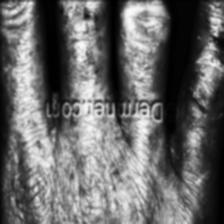Non-Cancerous Skin Condition: (90, 143, 173, 218), (7, 115, 70, 207), (58, 0, 109, 86), (122, 0, 162, 82), (197, 0, 224, 93)
